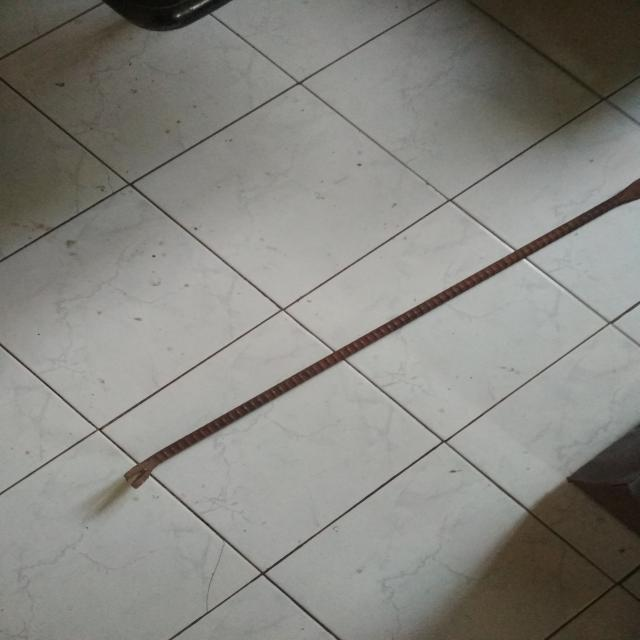Linggis: (124, 174, 640, 491)
